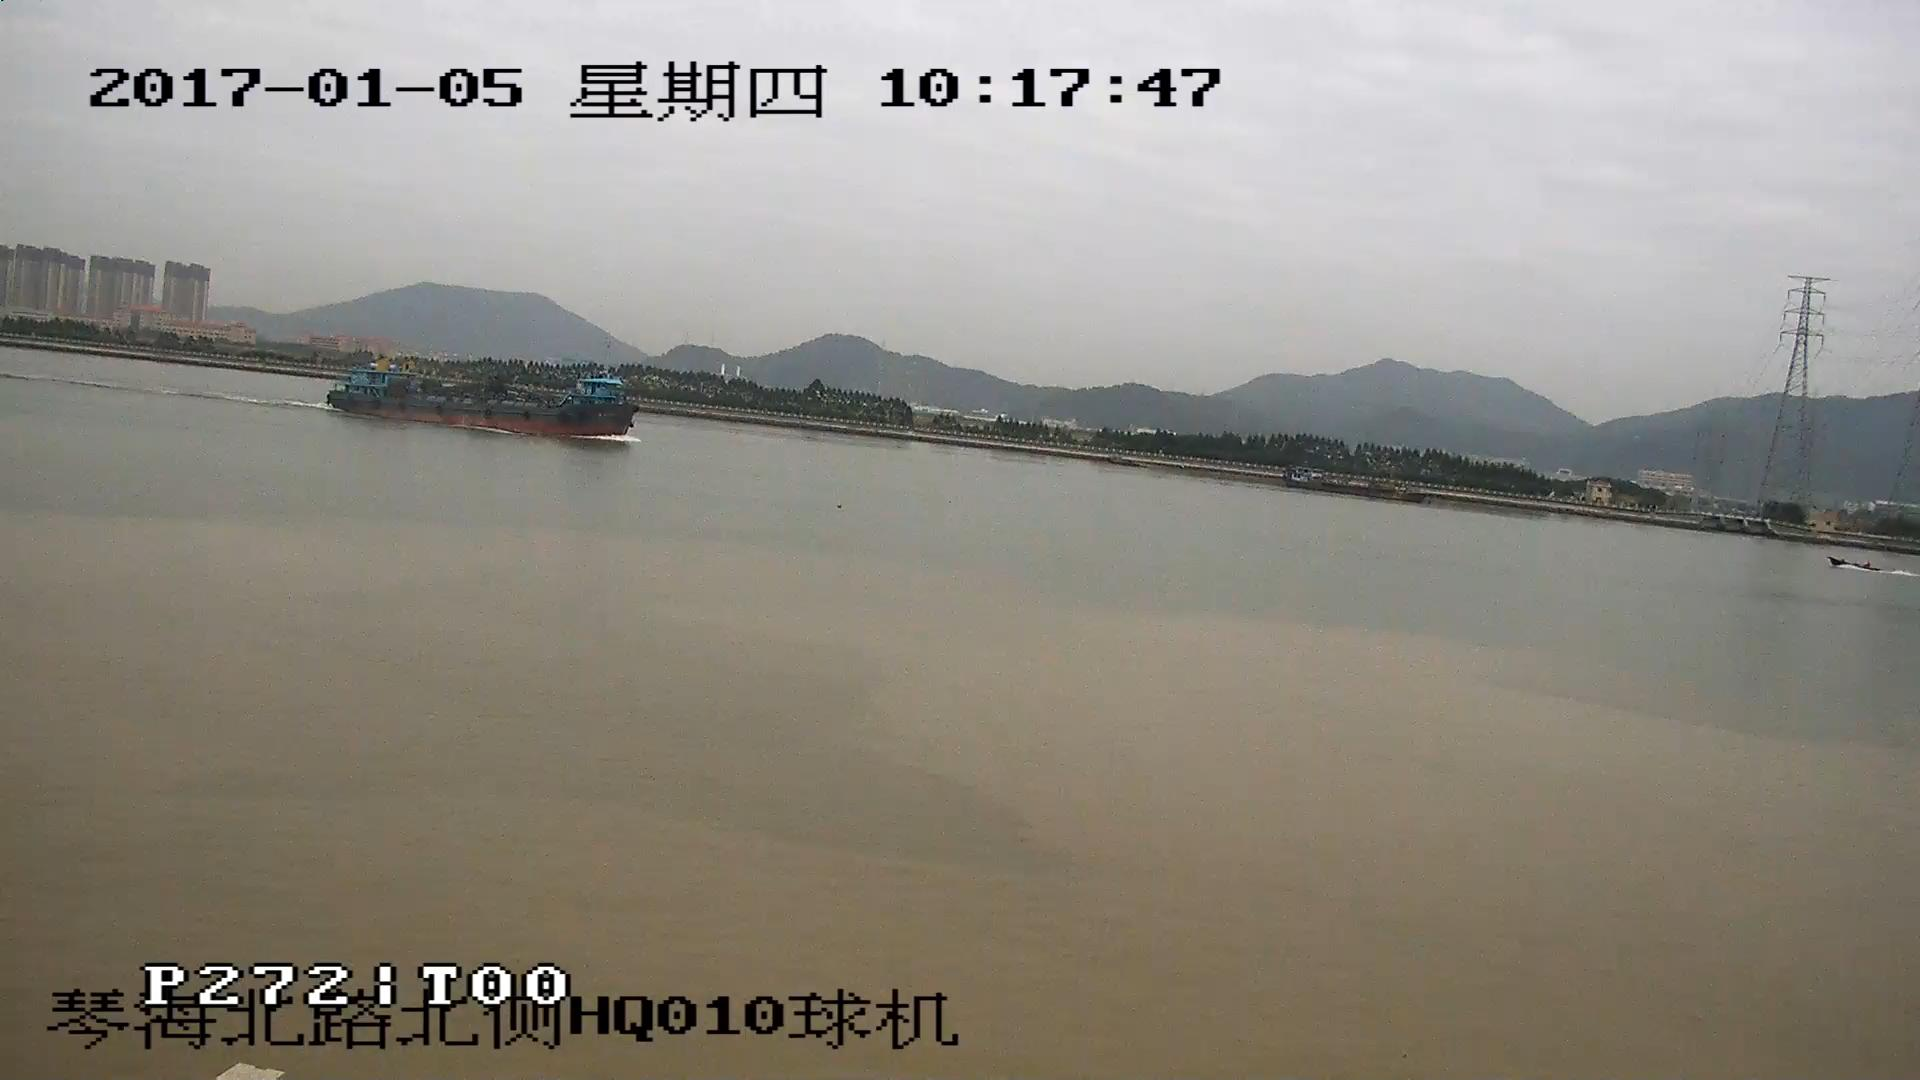bulk cargo carrier: (326, 355, 626, 441)
